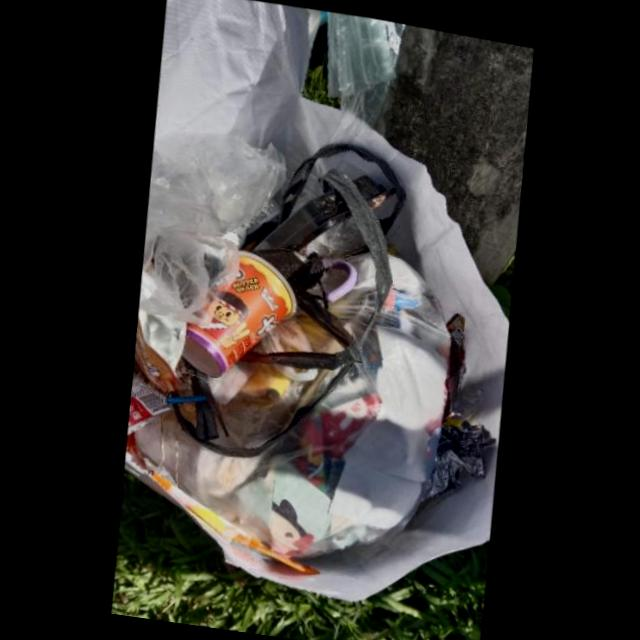bao_bi_thuc_pham: (415, 407, 493, 506), (124, 365, 172, 441)
hop_nhua: (180, 248, 292, 375), (250, 171, 396, 249)
ong_hut_nhua: (165, 393, 204, 402)
tui_ni_long: (132, 250, 449, 555), (136, 130, 285, 367), (296, 214, 364, 256)
